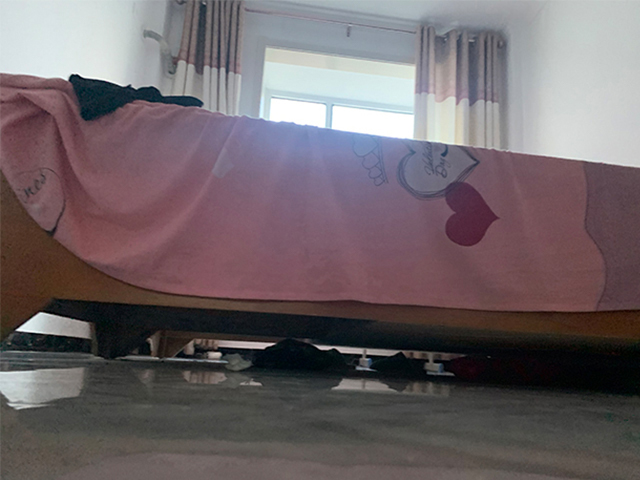bed: (1, 72, 640, 360)
curtain: (412, 22, 501, 157), (171, 1, 241, 115)
